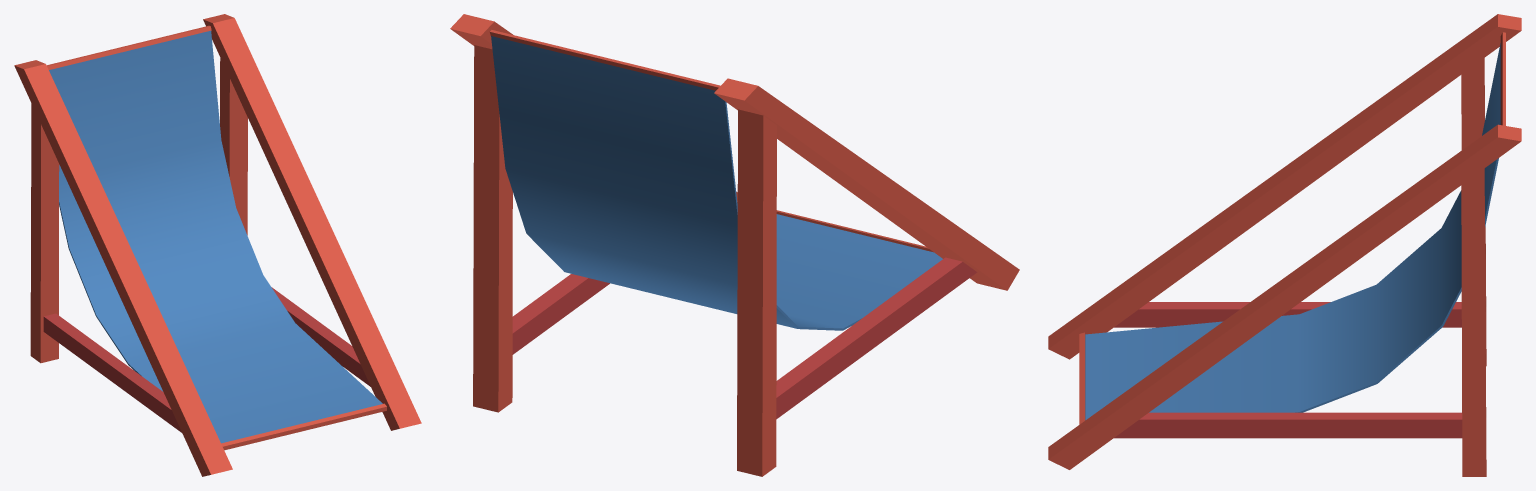
File: Bed_C.fbx
3 views of the same model, side by side, from view 1: azimuth 30°, elevation 25°; view 2: azimuth 150°, elevation 25°; view 3: azimuth 270°, elevation 25° (orthographic). The views are drawn at different scales.
Visible parts, largest first — view 1: Bed_C; view 2: Bed_C; view 3: Bed_C.
Part boxes in pixels (left/top/right/bottom): Bed_C: left=14, top=14, right=421, bottom=476; Bed_C: left=450, top=14, right=1019, bottom=476; Bed_C: left=1048, top=14, right=1521, bottom=476.
Size of the model in its own units: 57.08 by 73.46 by 92.48.
1 material, 1 textured.
